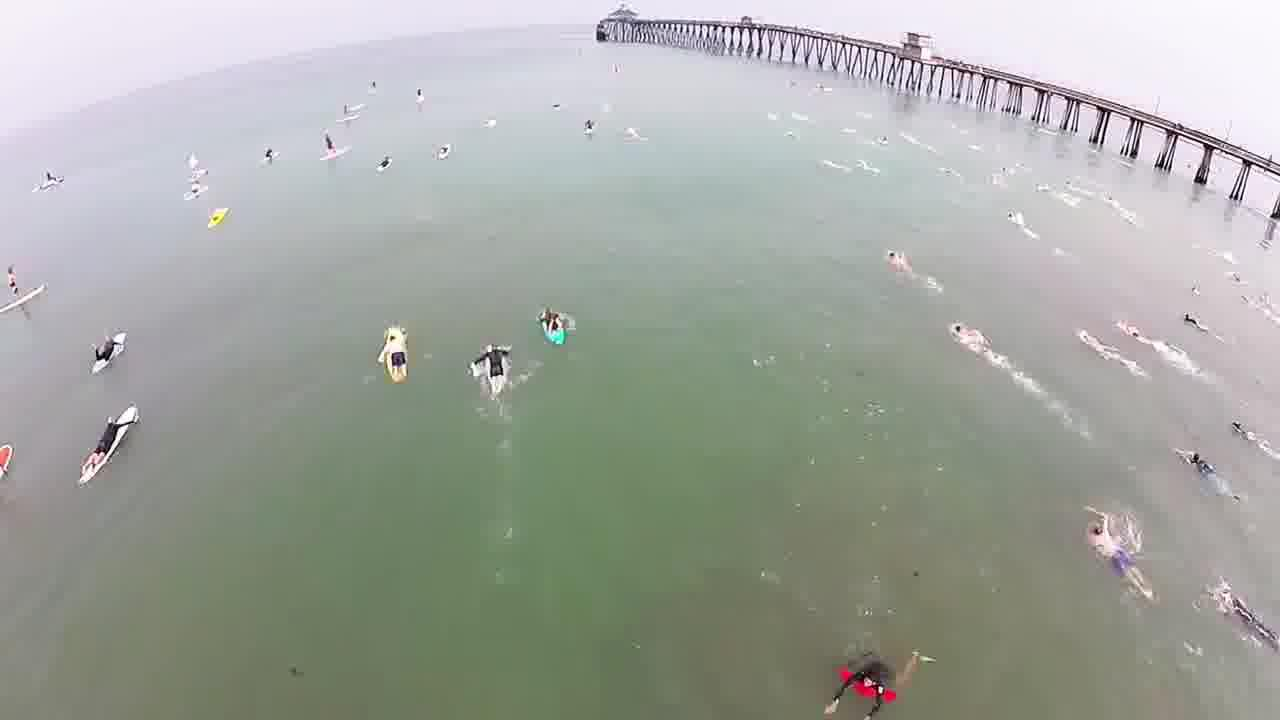human: (1070, 497, 1154, 598), (935, 310, 1001, 365), (1174, 438, 1240, 492), (1067, 319, 1138, 368), (876, 238, 927, 282)
